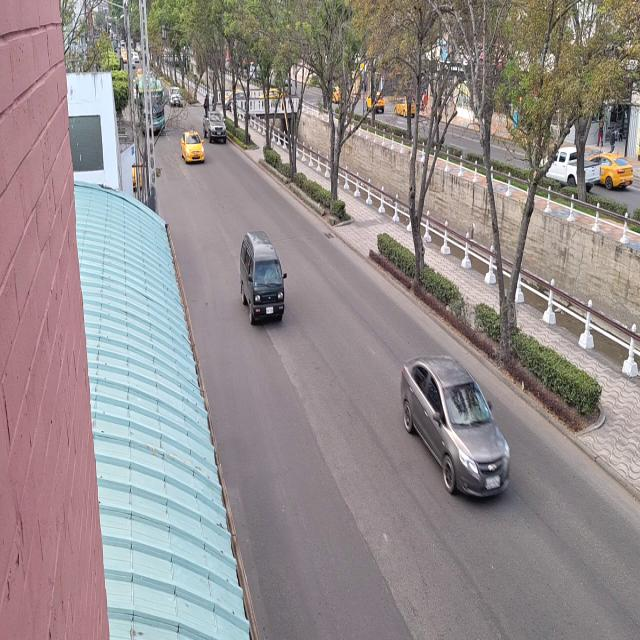CMT: (202, 106, 229, 146)
SED: (399, 360, 509, 498), (234, 228, 290, 332), (176, 129, 210, 170)
